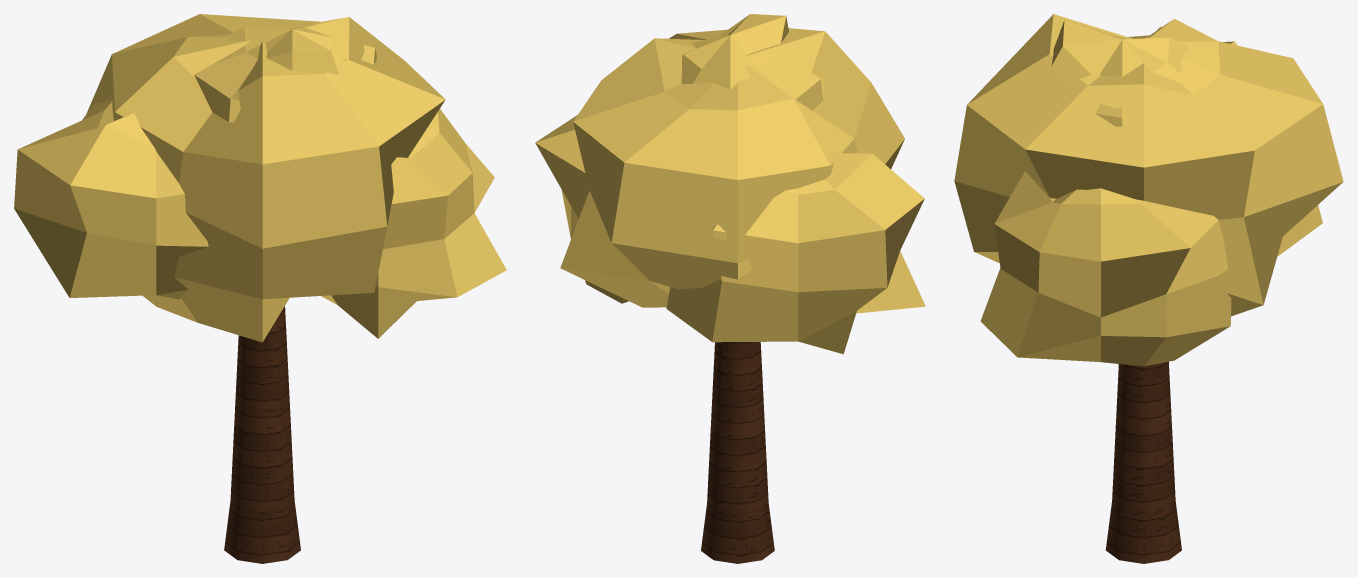
Rendered from tree_gold.glb.
3 views of the same model, side by side, from view 1: azimuth 30°, elevation 25°; view 2: azimuth 150°, elevation 25°; view 3: azimuth 270°, elevation 25° (orthographic). The views are drawn at different scales.
Parts seen in each view (by area): view 1: tree_gold; view 2: tree_gold; view 3: tree_gold.
Part boxes in pixels (left/top/right/bottom): tree_gold: left=14, top=14, right=506, bottom=563; tree_gold: left=535, top=14, right=925, bottom=563; tree_gold: left=954, top=14, right=1343, bottom=563.
Size of the model in its own units: 4.39 by 5.36 by 3.62.
Materials: 2 (1 with a texture image).
